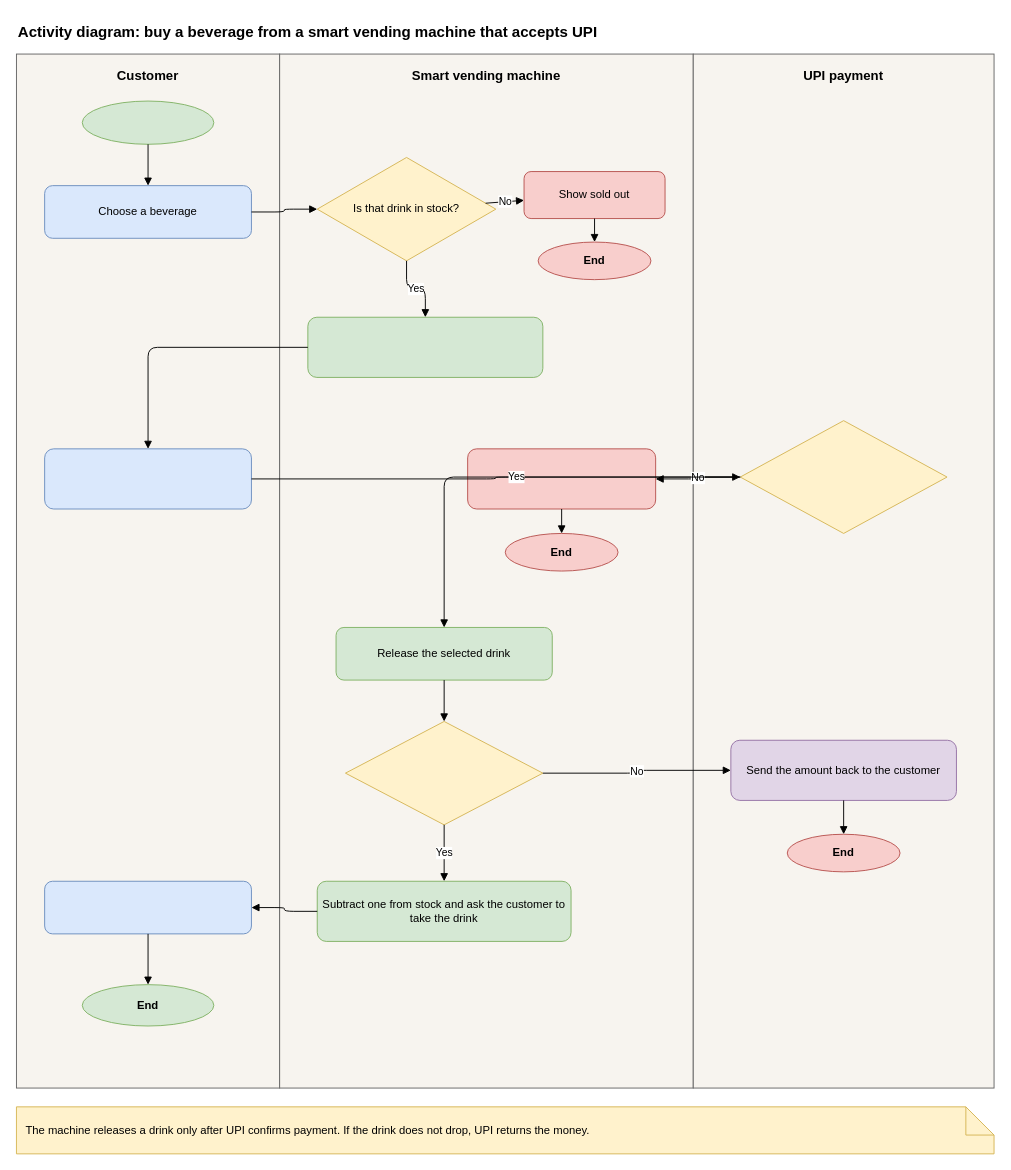
Some shapes in this 1011 by 1170 pixel diagram are drawn without their labels. Here are the shapes that lost their labels. From the top down, the centre of each, then its label:
At point (147, 122): "Start".
At point (425, 346): "Show the price and a UPI QR code".
At point (147, 478): "Scan the QR and pay in the UPI app".
At point (561, 478): "Show payment failed. Do not release a drink.".
At point (843, 476): "Does the bank approve the UPI payment?".
At point (444, 773): "Did the drink come out?".
At point (147, 907): "Collect the drink".
